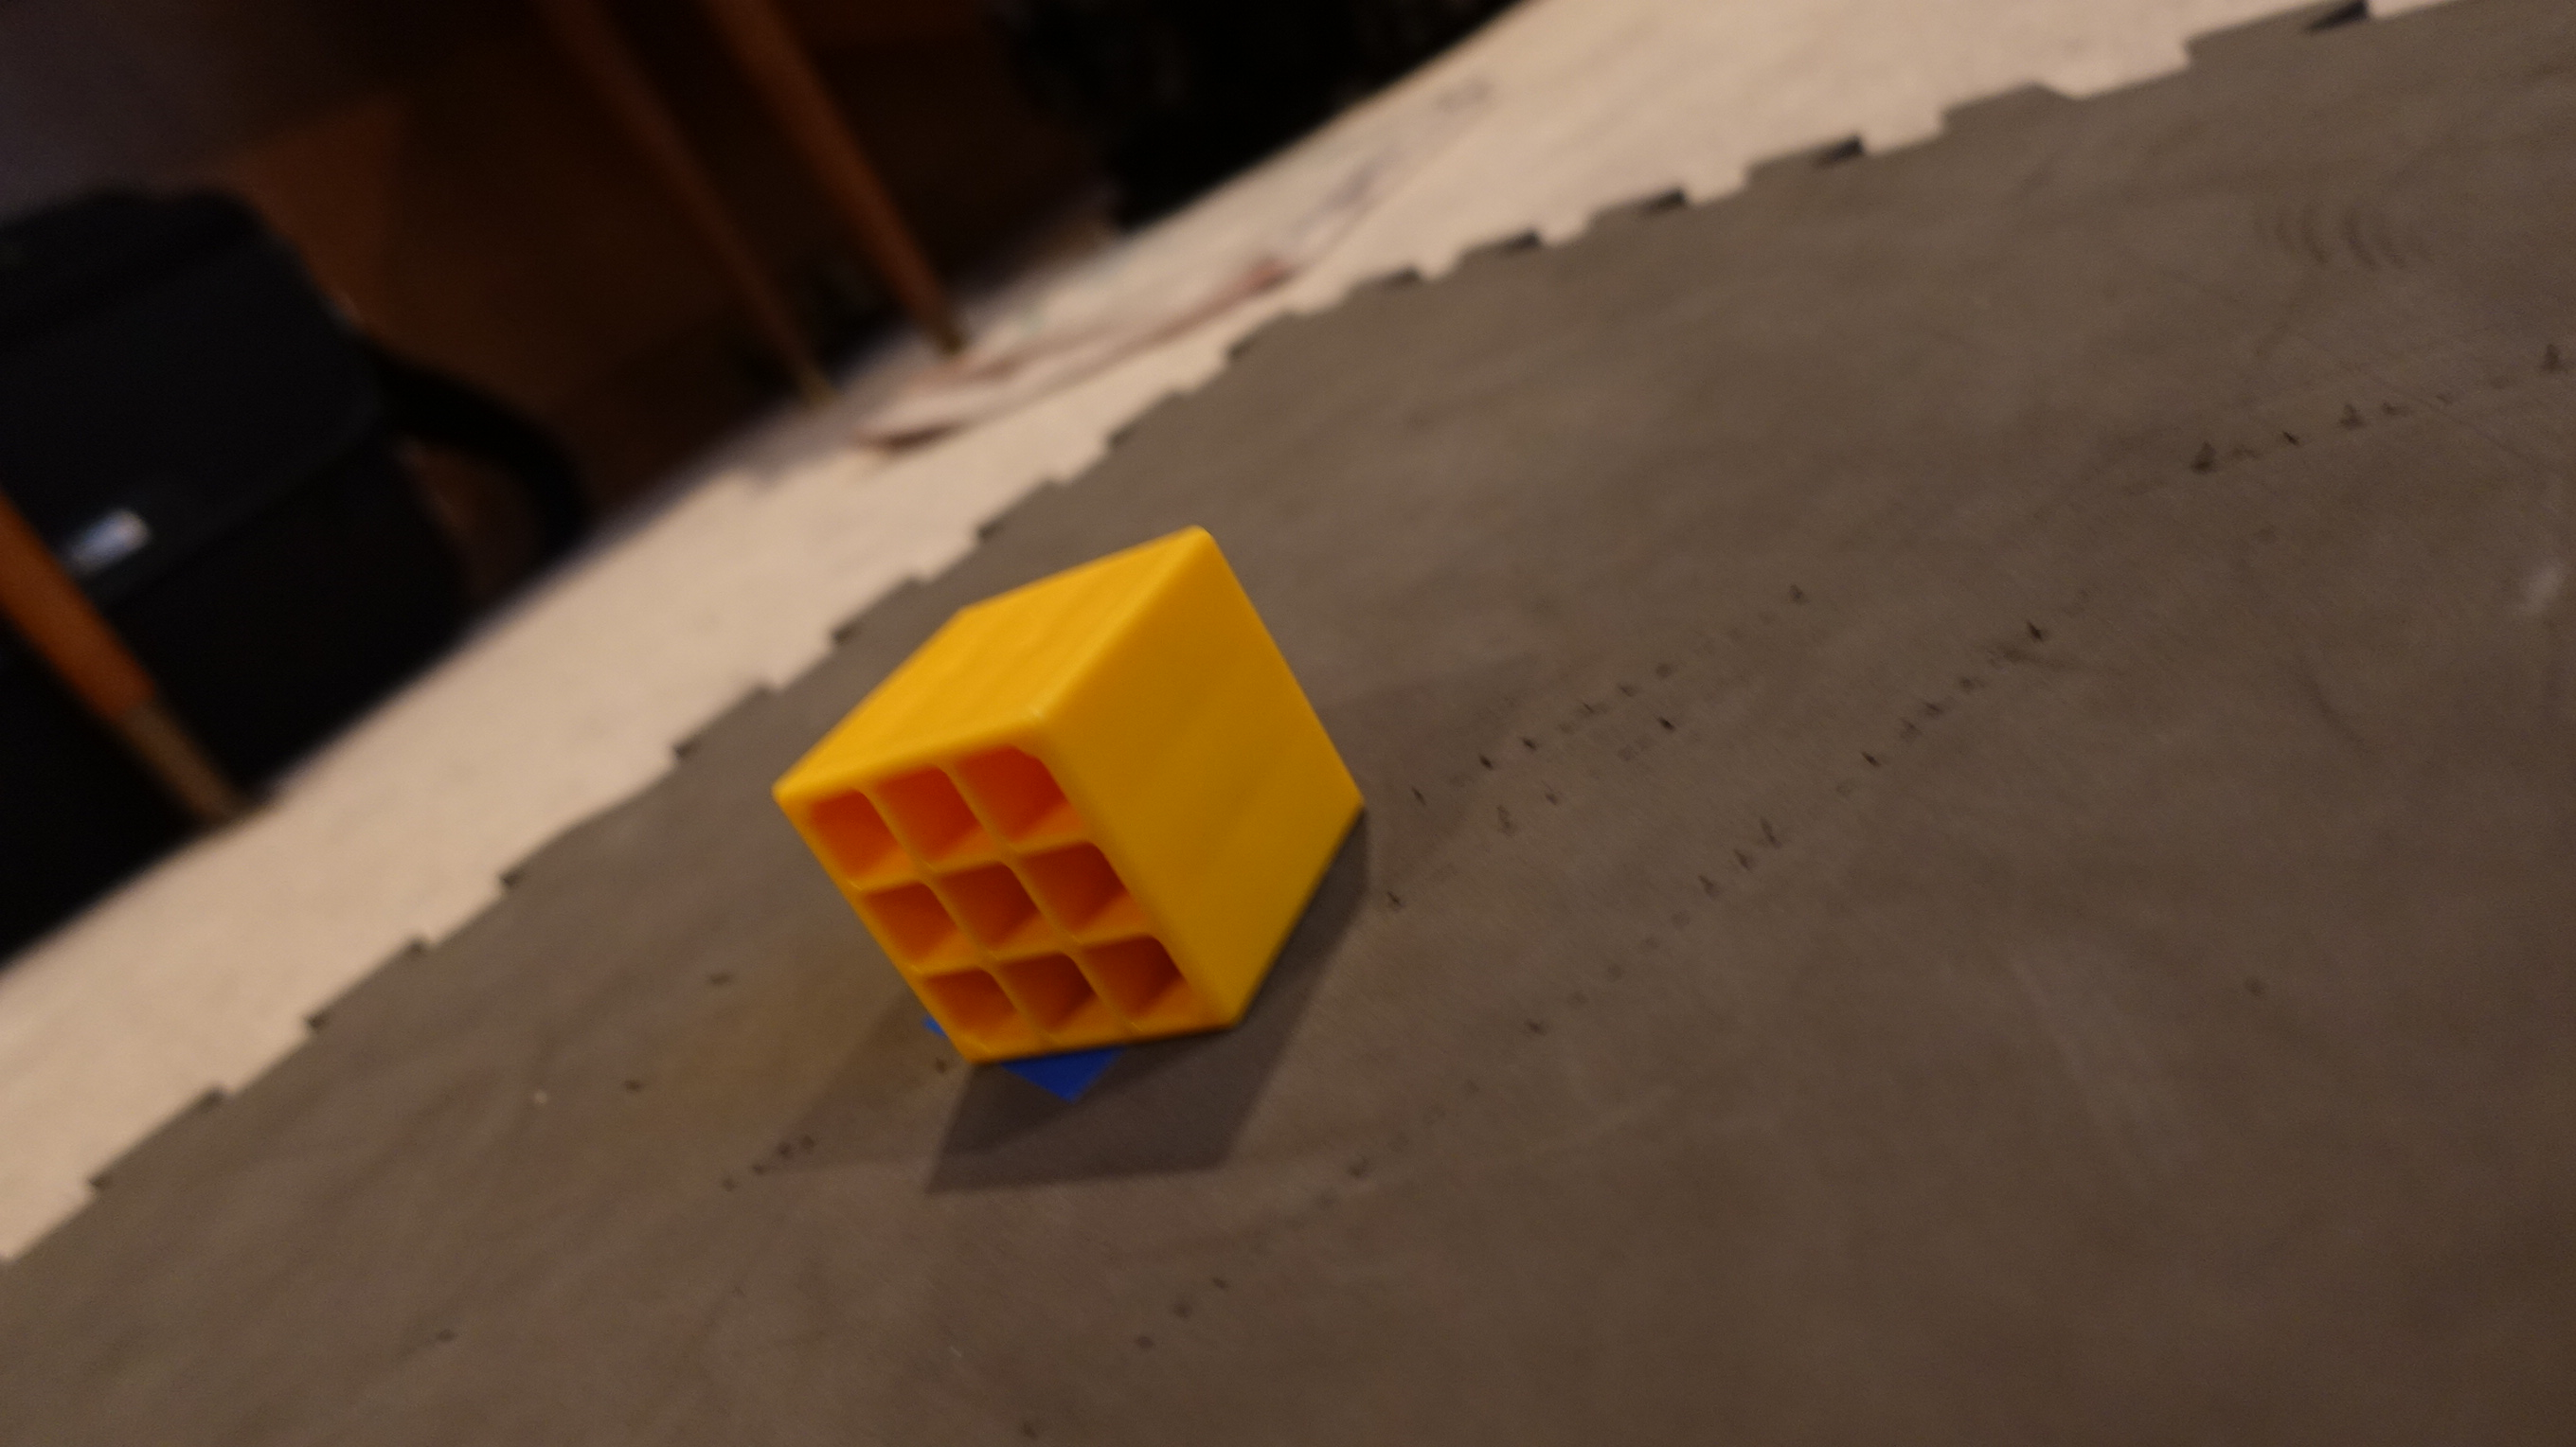gold: (757, 524, 1380, 1074)
